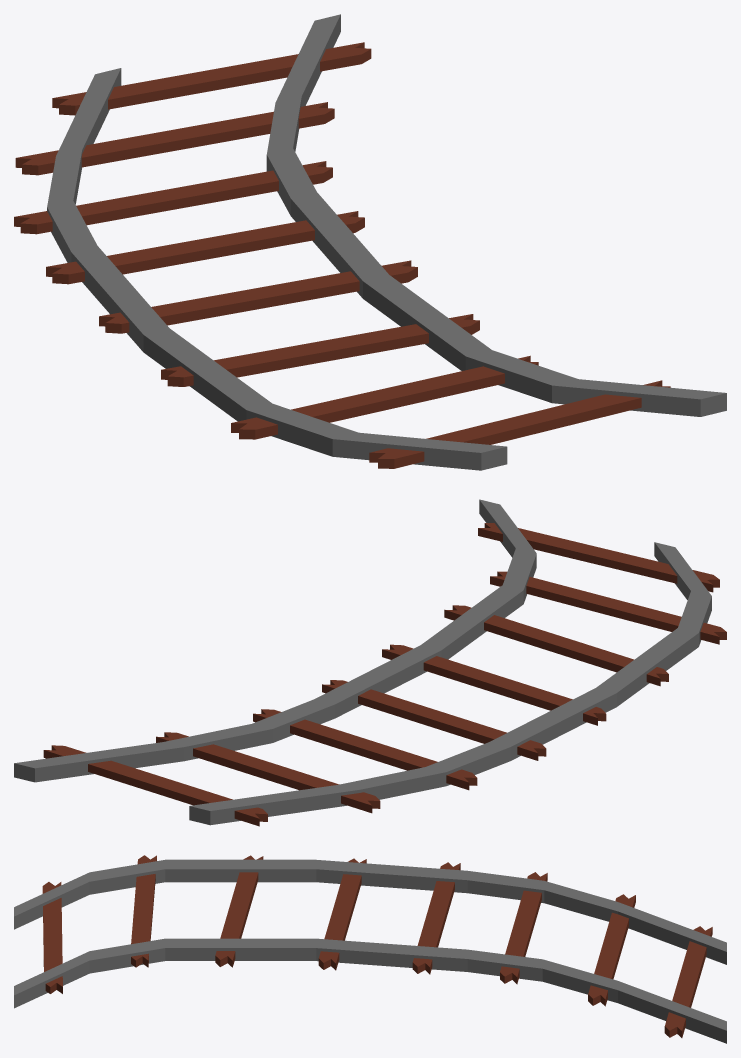
Rendered from viasCurvas.fbx.
3 views of the same model, one above another, from view 1: azimuth 30°, elevation 25°; view 2: azimuth 150°, elevation 25°; view 3: azimuth 270°, elevation 25° (orthographic). The views are drawn at different scales.
Visible parts, largest first — view 1: viasTramoCurvo; view 2: viasTramoCurvo; view 3: viasTramoCurvo.
Boxes of the visible parts, x1,y1,x2,y2 form: viasTramoCurvo: (14, 14, 726, 470); viasTramoCurvo: (14, 499, 726, 826); viasTramoCurvo: (14, 855, 726, 1043).
Bounding box in the file's own units: 610 × 20.77 × 1029.
